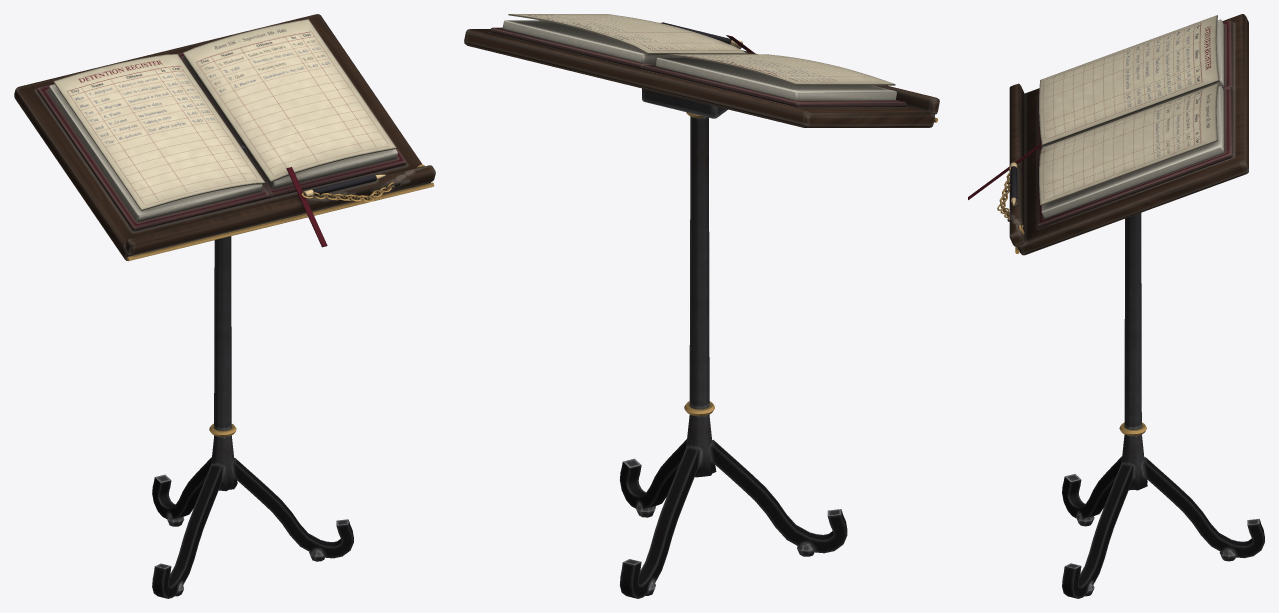
File: DetentionLog.fbx
3 views of the same model, side by side, from view 1: azimuth 30°, elevation 25°; view 2: azimuth 150°, elevation 25°; view 3: azimuth 270°, elevation 25° (orthographic). The views are drawn at different scales.
Visible parts, largest first — view 1: DetentionLog; view 2: DetentionLog; view 3: DetentionLog.
Part boxes in pixels (bbox=[...]): DetentionLog: bbox=[14, 14, 435, 598]; DetentionLog: bbox=[464, 14, 939, 598]; DetentionLog: bbox=[968, 14, 1264, 598].
Bounding box in the file's own units: 230 × 348 × 193.
